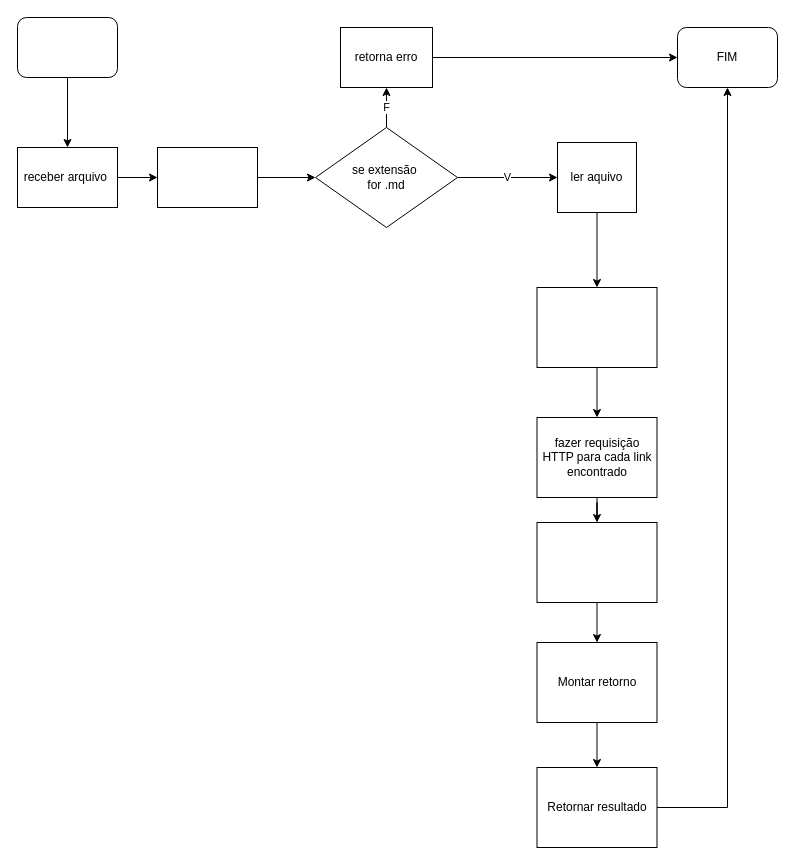
Image size: 795x865. Some labels were removed from this diagram. Each missing label, with the box of its shape:
identificar os links do arquivo: (536, 286, 657, 368)
INÍCIO: (16, 16, 118, 78)
validar extensão (FS): (156, 146, 258, 208)
Ver quais links deram sucesso e quais falharam: (536, 522, 657, 602)
